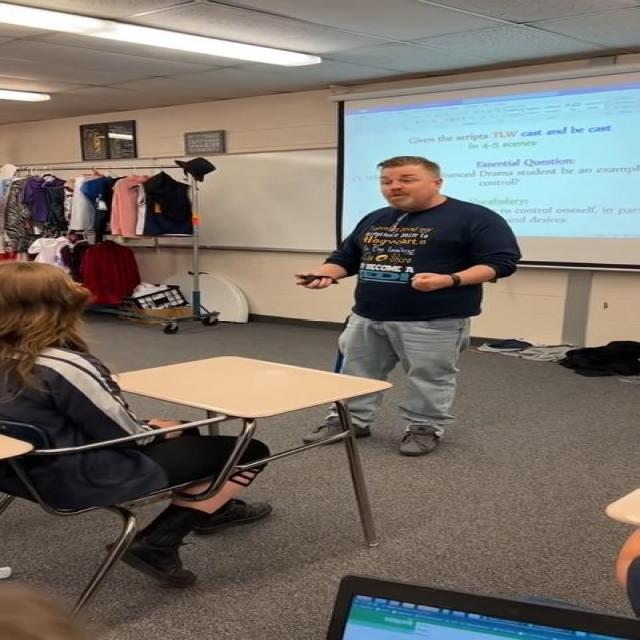NO-Mask: (380, 165, 431, 208)
